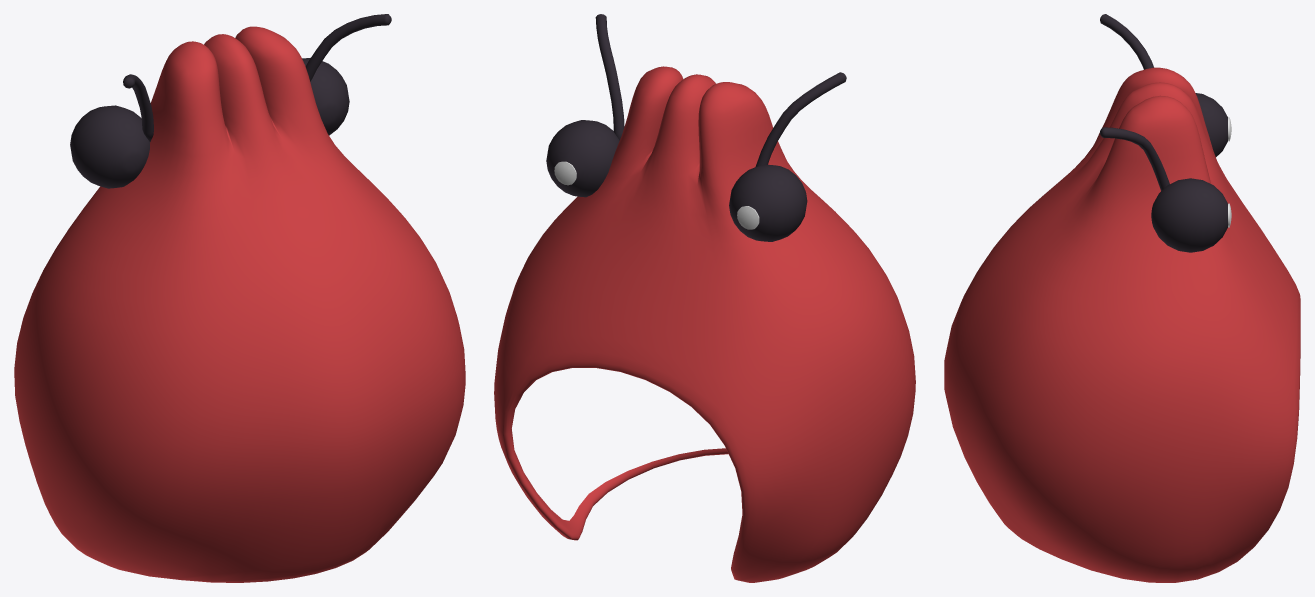
The model's file is ebisen.glb.
3 views of the same model, side by side, from view 1: azimuth 30°, elevation 25°; view 2: azimuth 150°, elevation 25°; view 3: azimuth 270°, elevation 25° (orthographic). The views are drawn at different scales.
Parts seen in each view (by area): view 1: kappaebisen_001(Clone); view 2: kappaebisen_001(Clone); view 3: kappaebisen_001(Clone).
Part boxes in pixels (x1,y1,x2,y2): kappaebisen_001(Clone): (14,14,465,582); kappaebisen_001(Clone): (494,14,915,582); kappaebisen_001(Clone): (944,14,1300,582).
Bounding box in the file's own units: 0.3361 × 0.4264 × 0.2982.
